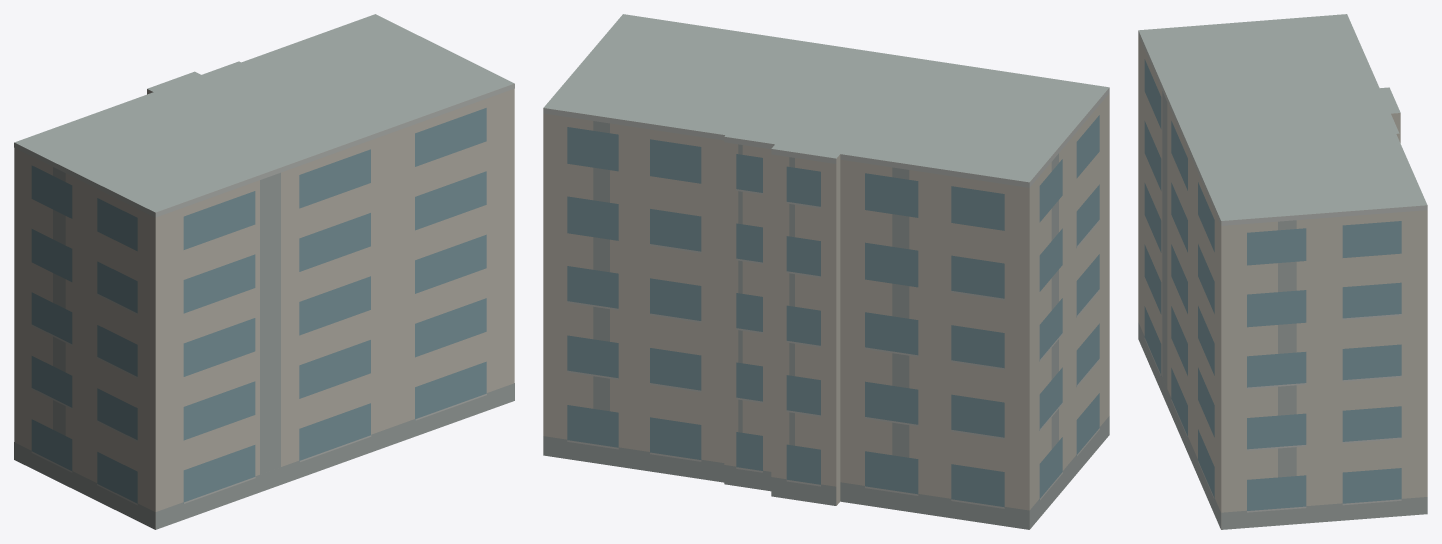
The model's file is survey-upis-32767356.glb.
3 renders of one model, left to right at view 1: azimuth 30°, elevation 25°; view 2: azimuth 150°, elevation 25°; view 3: azimuth 270°, elevation 25°, orthographic. The views are drawn at different scales.
Visible parts, largest first — view 1: survey-upis-32767356.tmp; view 2: survey-upis-32767356.tmp; view 3: survey-upis-32767356.tmp.
Part boxes in pixels (x1,y1,x2,y2): survey-upis-32767356.tmp: [14, 14, 514, 529]; survey-upis-32767356.tmp: [543, 14, 1109, 529]; survey-upis-32767356.tmp: [1138, 14, 1427, 529].
Bounding box in the file's own units: 21.93 × 15.25 × 12.95.
